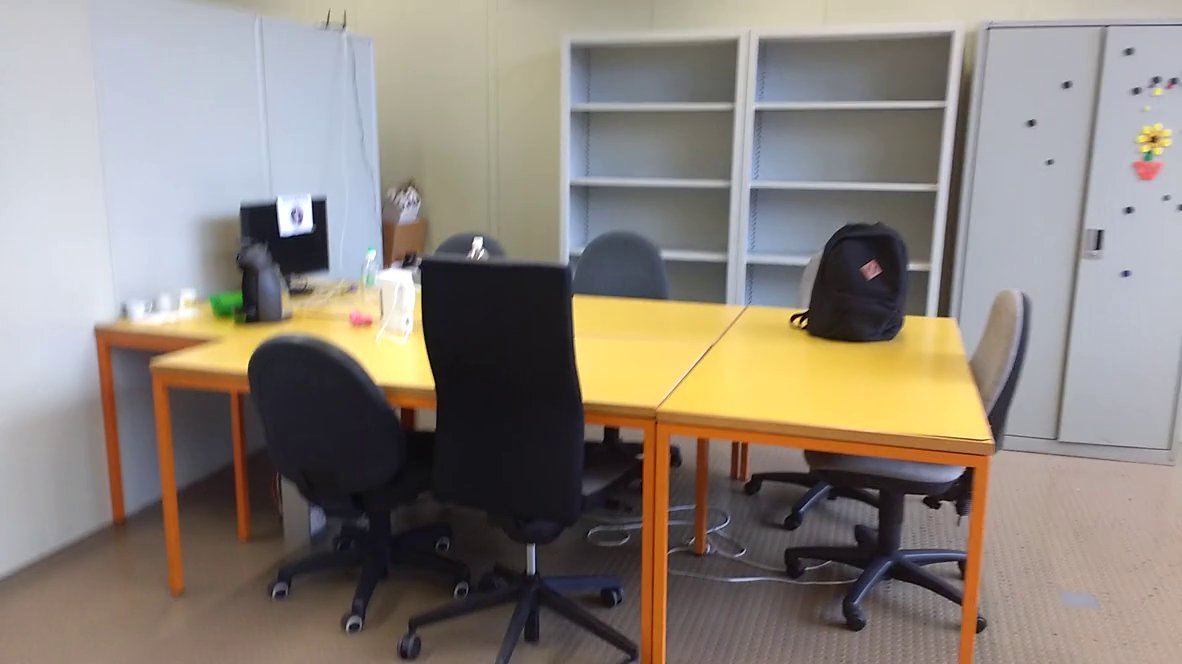bag: (789, 216, 913, 352)
chair: (770, 275, 1117, 650), (384, 244, 670, 664), (216, 325, 473, 664)
